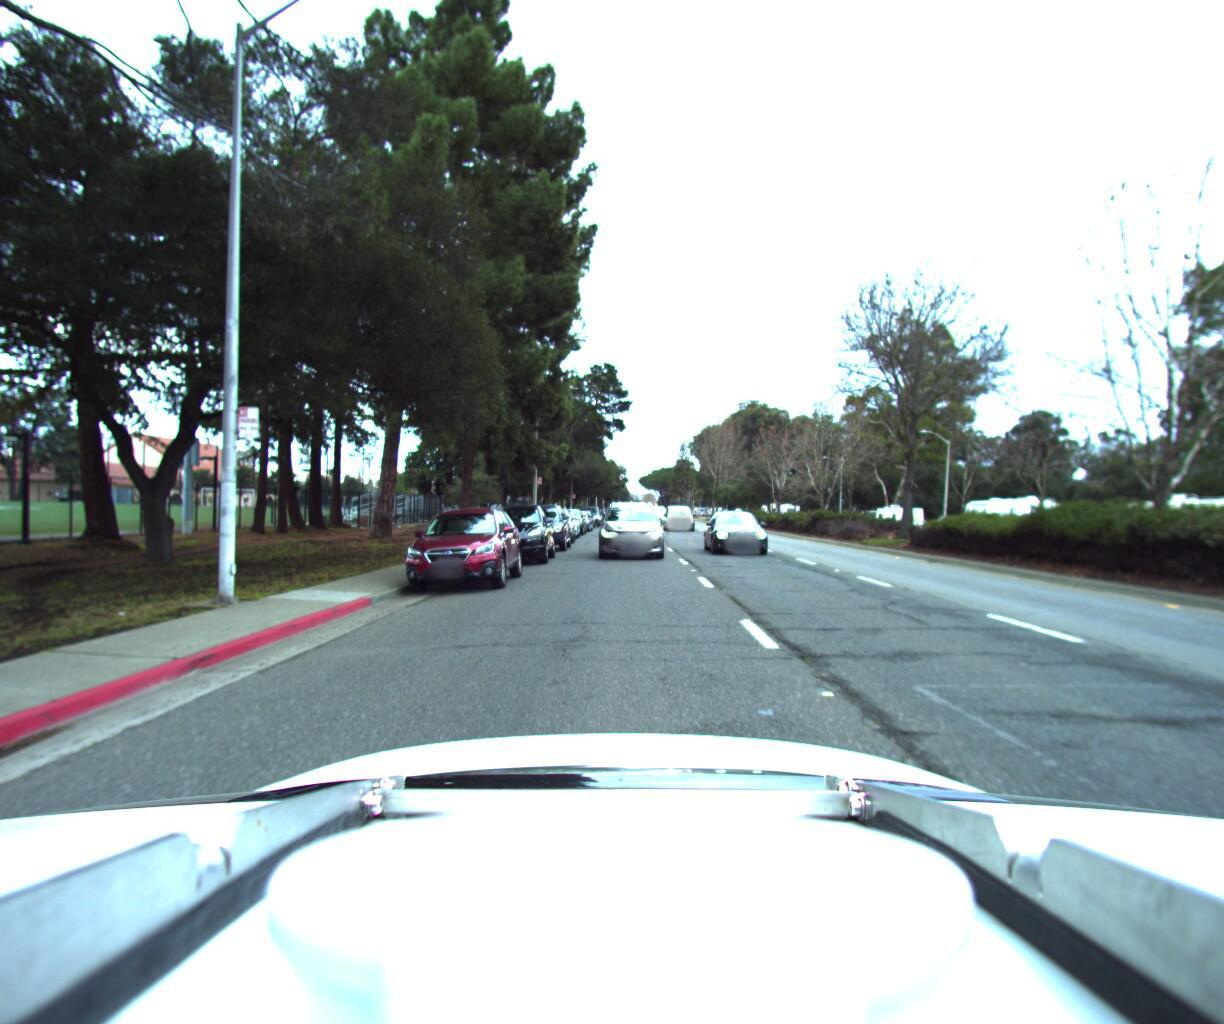car: (394, 500, 527, 596), (472, 498, 556, 565), (597, 490, 667, 555), (703, 506, 776, 555), (510, 494, 570, 546), (528, 498, 576, 539), (540, 503, 582, 533), (551, 501, 586, 531), (668, 495, 700, 526)
other_vehicle: (1101, 483, 1224, 559), (952, 487, 1068, 545), (870, 496, 927, 528)
